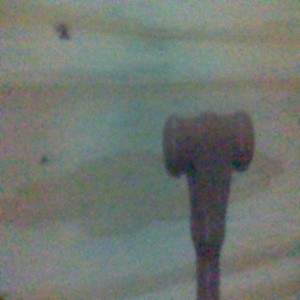palu: (161, 109, 256, 300)
